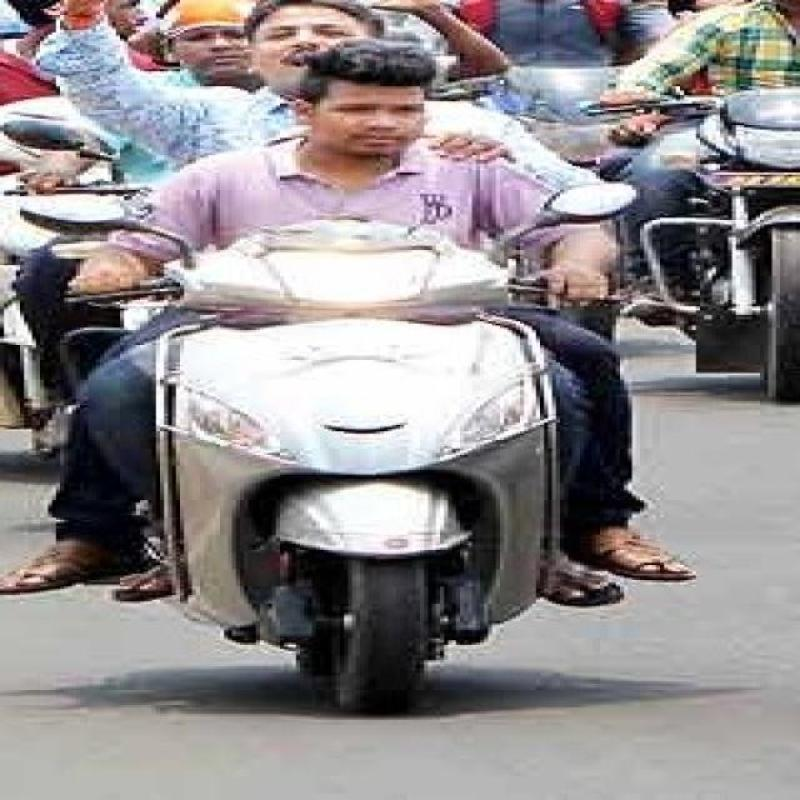nohelmet: (286, 40, 449, 146)
